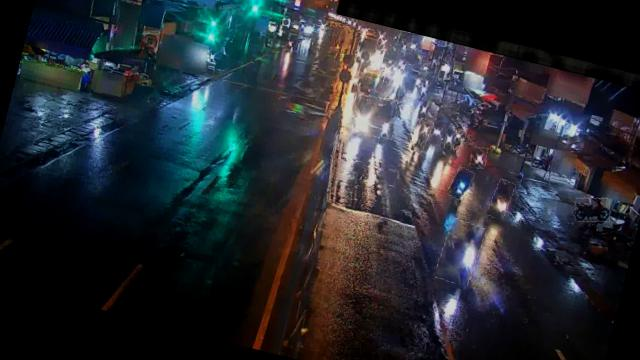Bike: (435, 218, 486, 288), (571, 193, 612, 228), (486, 178, 514, 221), (448, 166, 475, 202), (408, 118, 433, 154), (468, 146, 488, 170), (429, 119, 446, 145), (442, 126, 458, 152), (452, 129, 467, 152)
Truck: (350, 92, 400, 142)
